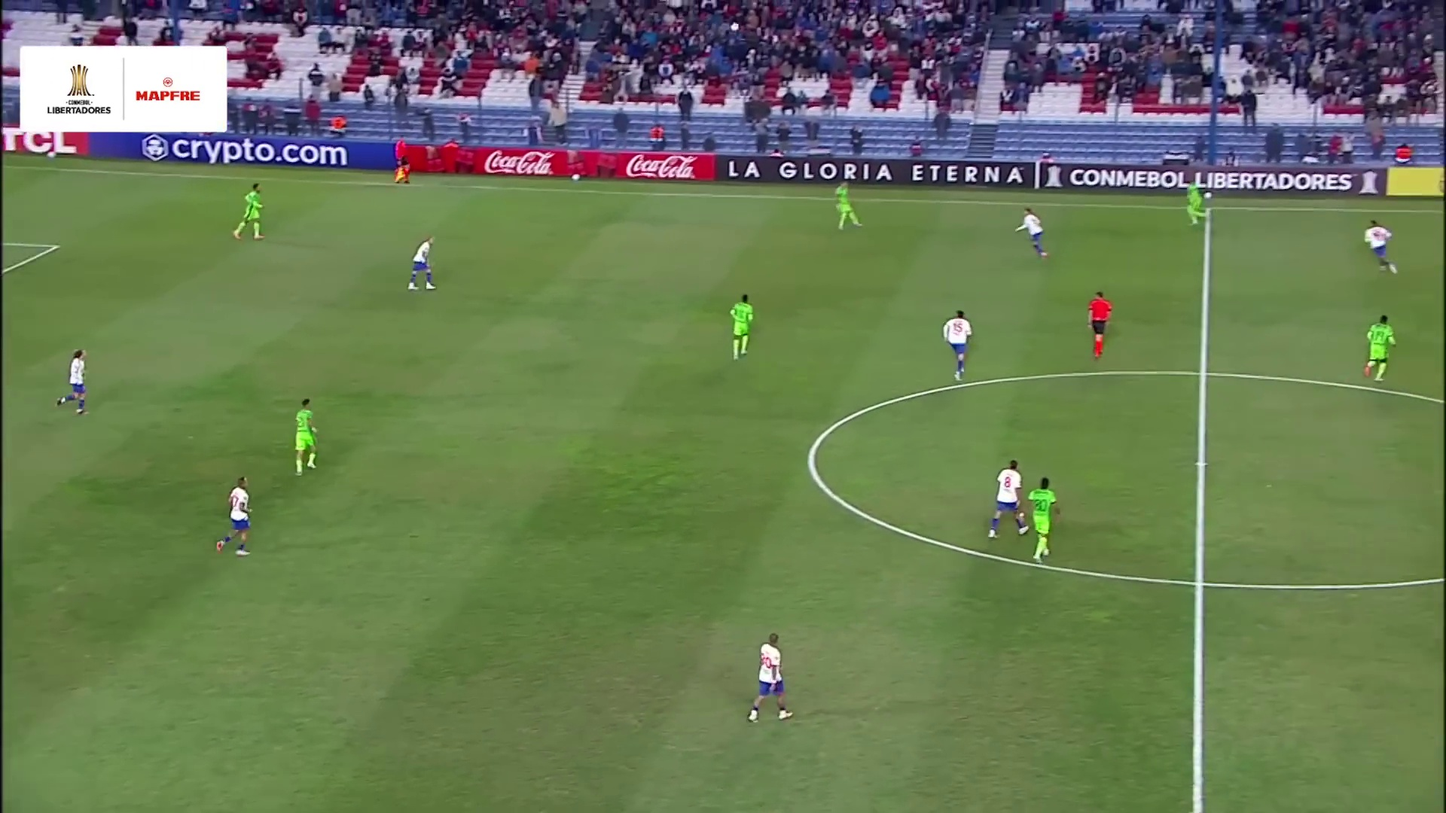player: (743, 631, 797, 727), (985, 458, 1030, 542), (1024, 475, 1065, 566), (212, 475, 256, 559), (52, 348, 94, 418), (939, 309, 976, 382), (288, 398, 322, 477), (1360, 314, 1399, 382), (1361, 219, 1400, 276), (1012, 207, 1053, 261), (231, 183, 267, 242), (726, 293, 757, 361), (404, 235, 439, 293), (831, 179, 865, 232), (1184, 174, 1214, 227)
referee: (1084, 291, 1116, 361), (390, 135, 414, 188)
